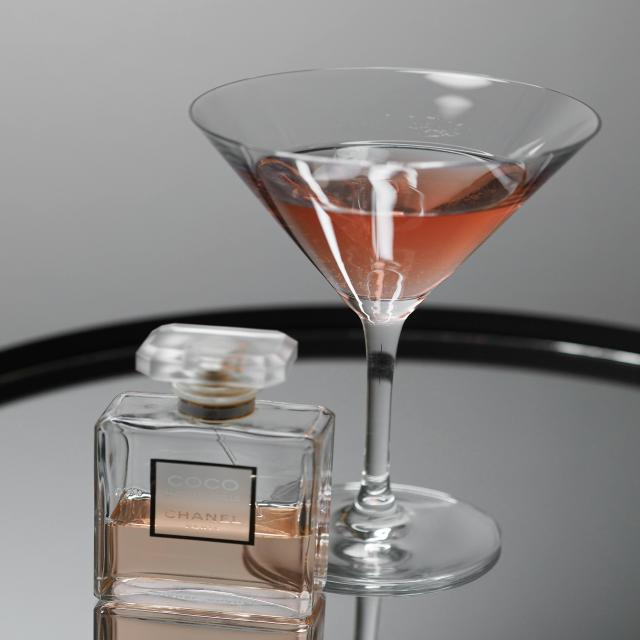electronic: (180, 62, 604, 603), (65, 312, 344, 634)
